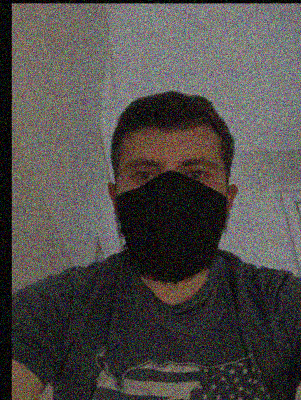with_mask: (114, 147, 226, 284)
